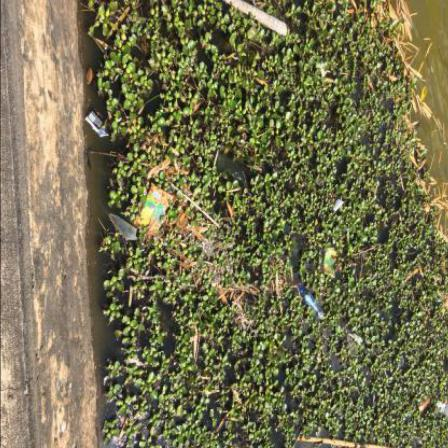Bottle: (299, 288, 324, 321)
Bottle cap: (300, 287, 304, 293)
Plastic bag - wrapper: (135, 183, 175, 237), (109, 215, 139, 241), (86, 109, 110, 138), (227, 166, 246, 188), (347, 333, 363, 359), (324, 249, 337, 281)
Unlabeled litter: (333, 200, 345, 213), (437, 402, 447, 414), (443, 404, 448, 419), (381, 316, 385, 322)
